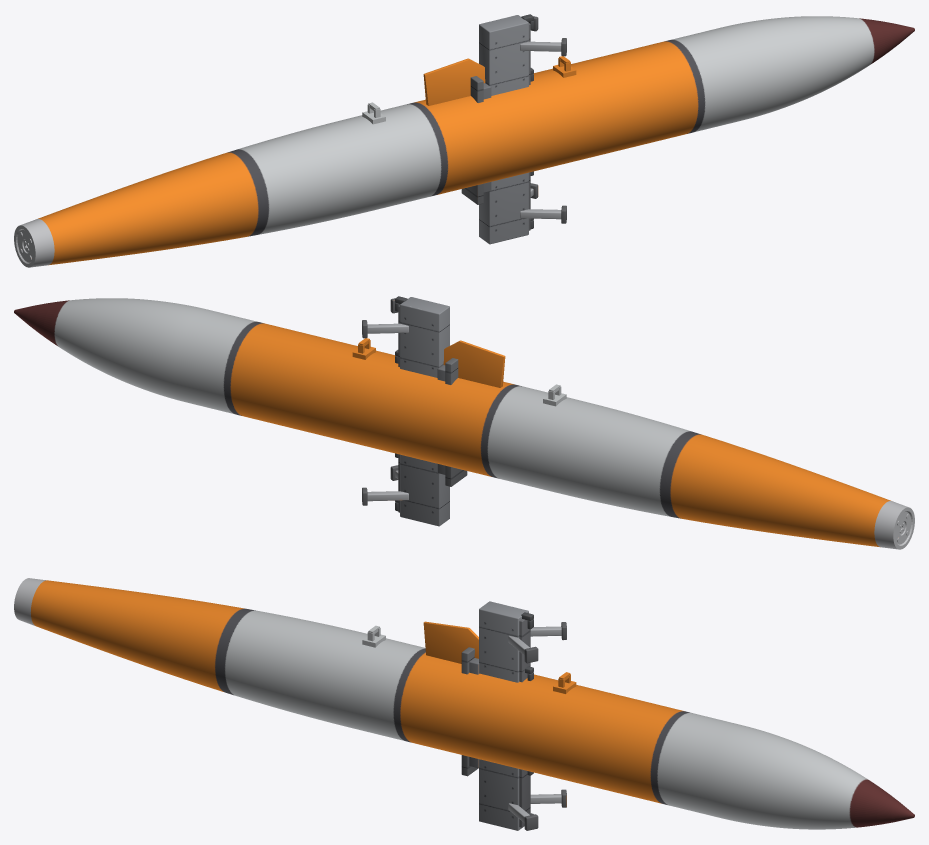
The model's file is KSArmory_B61.glb.
The picture shows the model from 3 angles, top to bottom: view 1: azimuth 30°, elevation 25°; view 2: azimuth 150°, elevation 25°; view 3: azimuth 330°, elevation 25°; orthographic projection.
Visible parts, largest first — view 1: KSArmory_Subpart_B61, KSArmory_Subpart_B61Rack, KSArmory_Subpart_B61Fin; view 2: KSArmory_Subpart_B61, KSArmory_Subpart_B61Rack, KSArmory_Subpart_B61Fin; view 3: KSArmory_Subpart_B61, KSArmory_Subpart_B61Rack, KSArmory_Subpart_B61Fin.
Boxes of the visible parts, x1,y1,x2,y2 form: KSArmory_Subpart_B61: [14, 16, 914, 267]; KSArmory_Subpart_B61Rack: [461, 14, 566, 244]; KSArmory_Subpart_B61Fin: [423, 58, 485, 105]; KSArmory_Subpart_B61: [14, 298, 914, 549]; KSArmory_Subpart_B61Rack: [362, 296, 467, 526]; KSArmory_Subpart_B61Fin: [443, 340, 505, 387]; KSArmory_Subpart_B61: [14, 578, 914, 829]; KSArmory_Subpart_B61Rack: [461, 601, 566, 830]; KSArmory_Subpart_B61Fin: [423, 621, 478, 663].
Bounding box in the file's own units: 3.56 × 0.8175 × 0.3302.
Materials: 1 (1 with a texture image).
